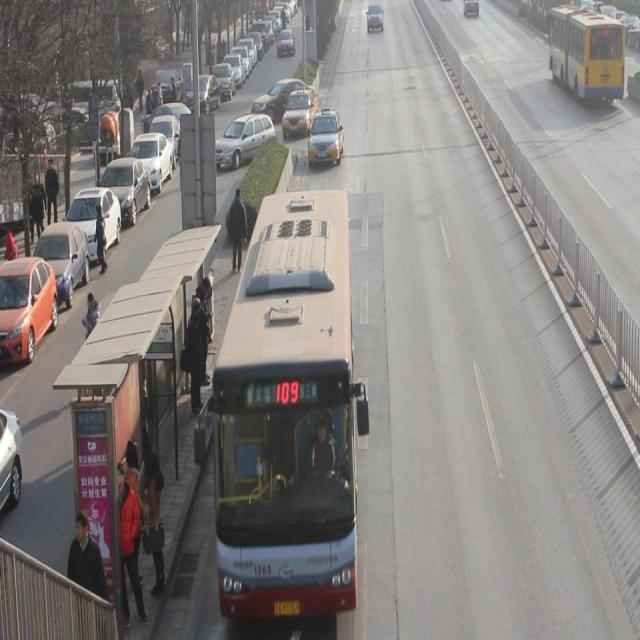car: (308, 110, 343, 170), (282, 90, 318, 141)
van: (212, 191, 353, 607), (548, 11, 622, 110)
